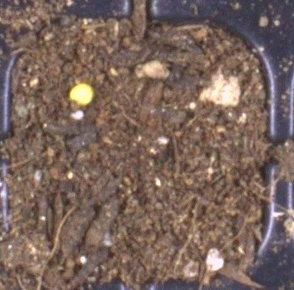chilli seed: (69, 83, 94, 105)
